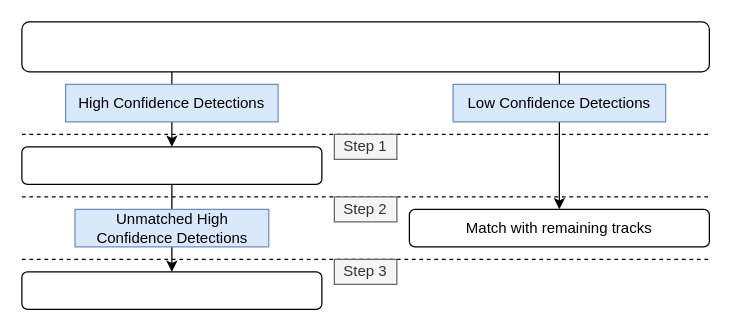
The diagram is 733 pixels wide and 331 high, and some of its shapes have lost their labels. Each missing label, with the box of its shape:
Create new tracks: (21, 271, 322, 309)
Match with existing tracks: (21, 146, 322, 184)
Person detection output: (21, 21, 709, 72)
